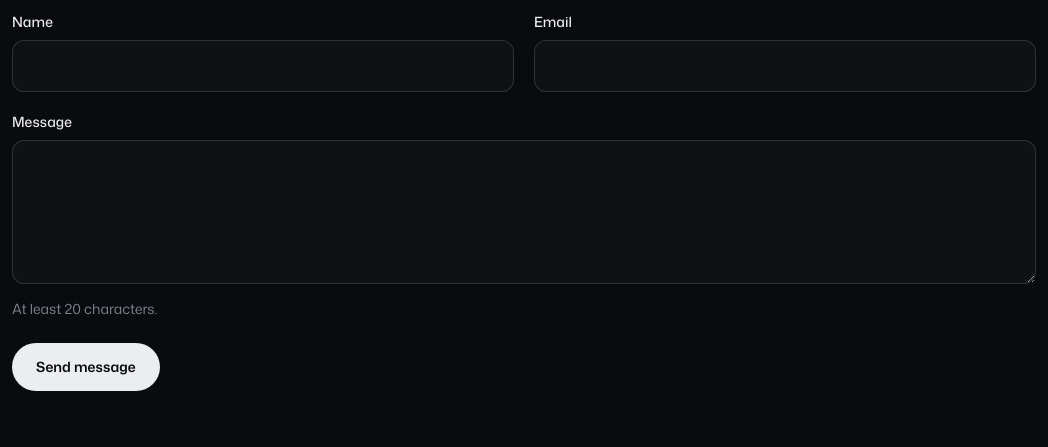
Test: <ContactForm /> › shows an error message when sending fails
The width and height of the screenshot is (1048, 447).
Type "Ana Souza" into the field labelled "Name".
click(263, 66); type("Ana Souza")  # box [12,40,514,92]
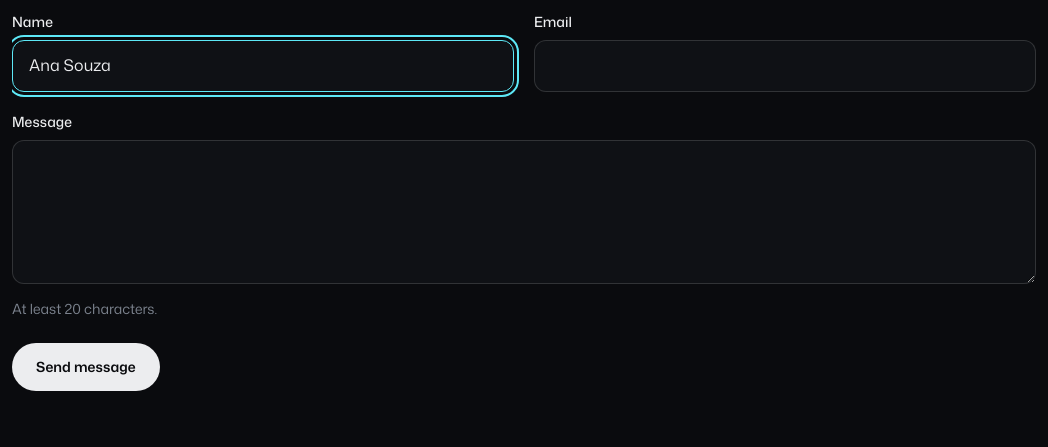
Type "ana@example.com" into the field labelled "Email".
click(785, 66); type("ana@example.com")  # box [534,40,1036,92]
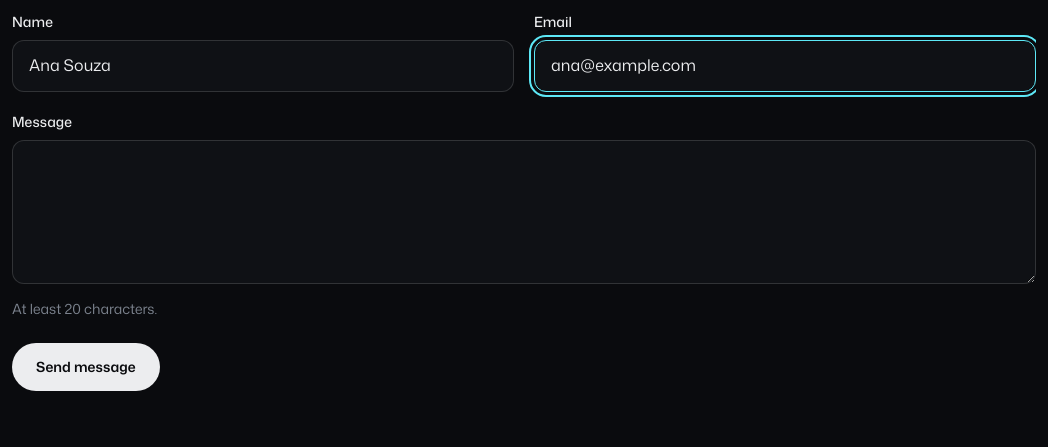
Type "Hi Raul, I would like to talk about a project." into the text box labelled "Message".
click(524, 212); type("Hi Raul, I would like to talk about a project.")  # box [12,140,1036,284]
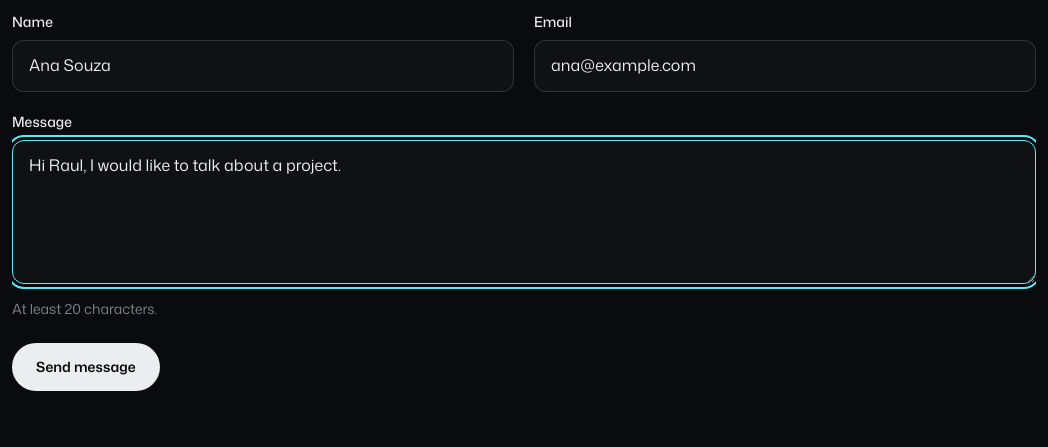
Click the button "Send message".
click(86, 367)  # box [12,343,160,391]
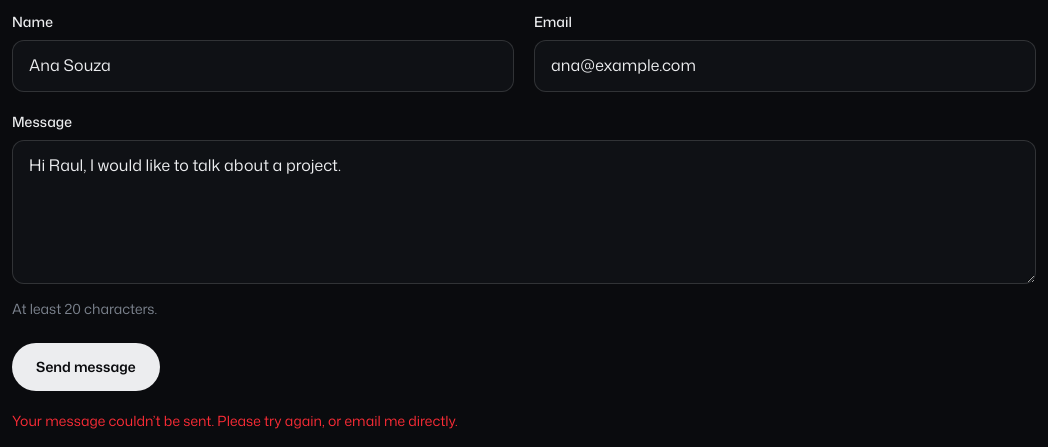
expect the message shows "Your message couldn’t be sent": met, box [12,411,458,430]
